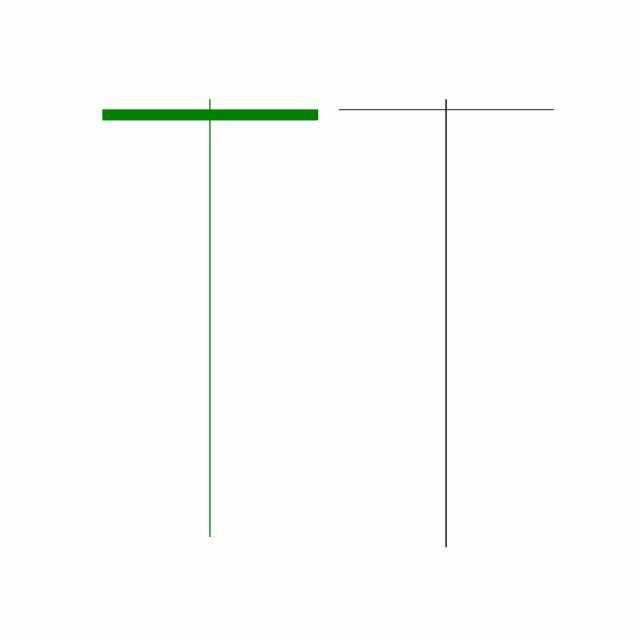Dragonfly Doji: (328, 95, 566, 553)
